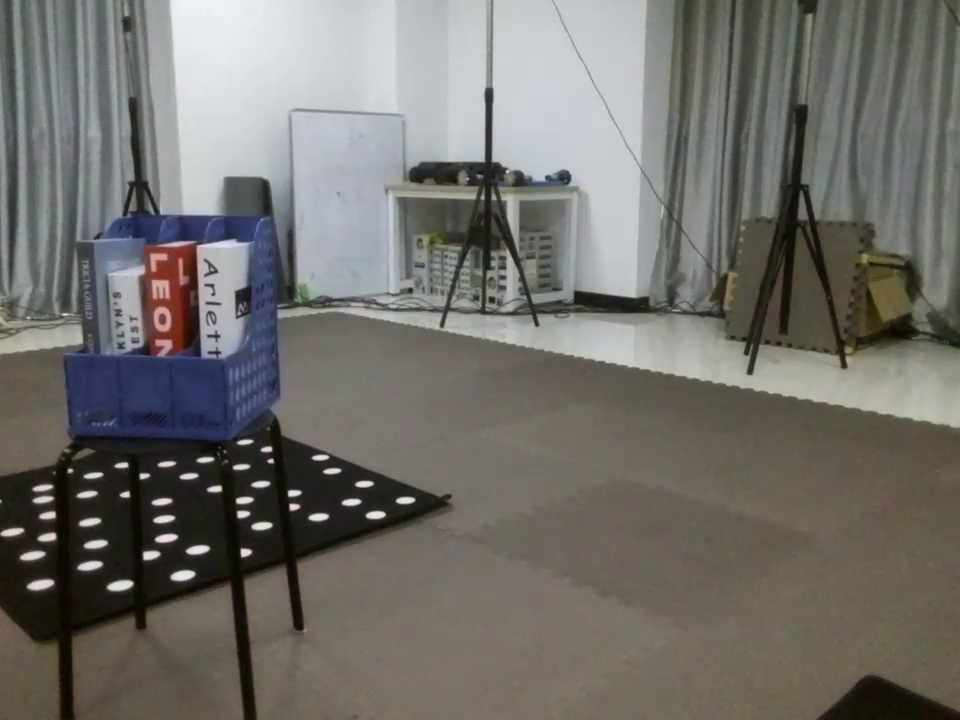files: (58, 202, 296, 451)
